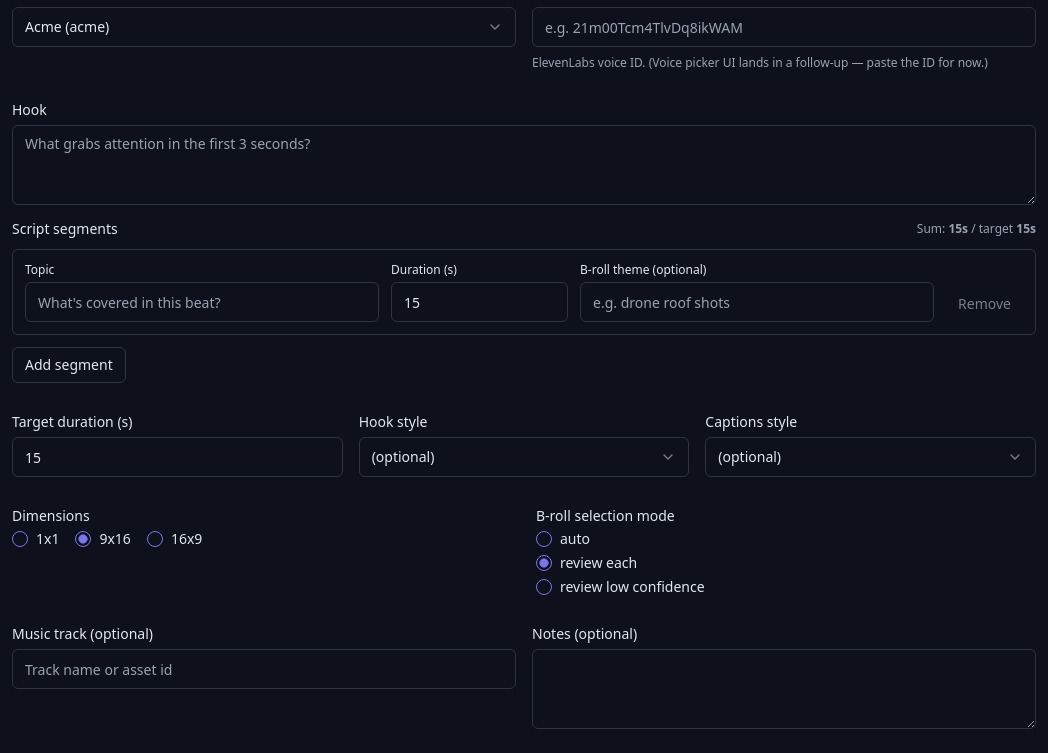
Test: VideoBriefForm › surfaces an API error message on failure
In the field labelled "Topic": point(202, 302) [25,282,379,322], type "intro"
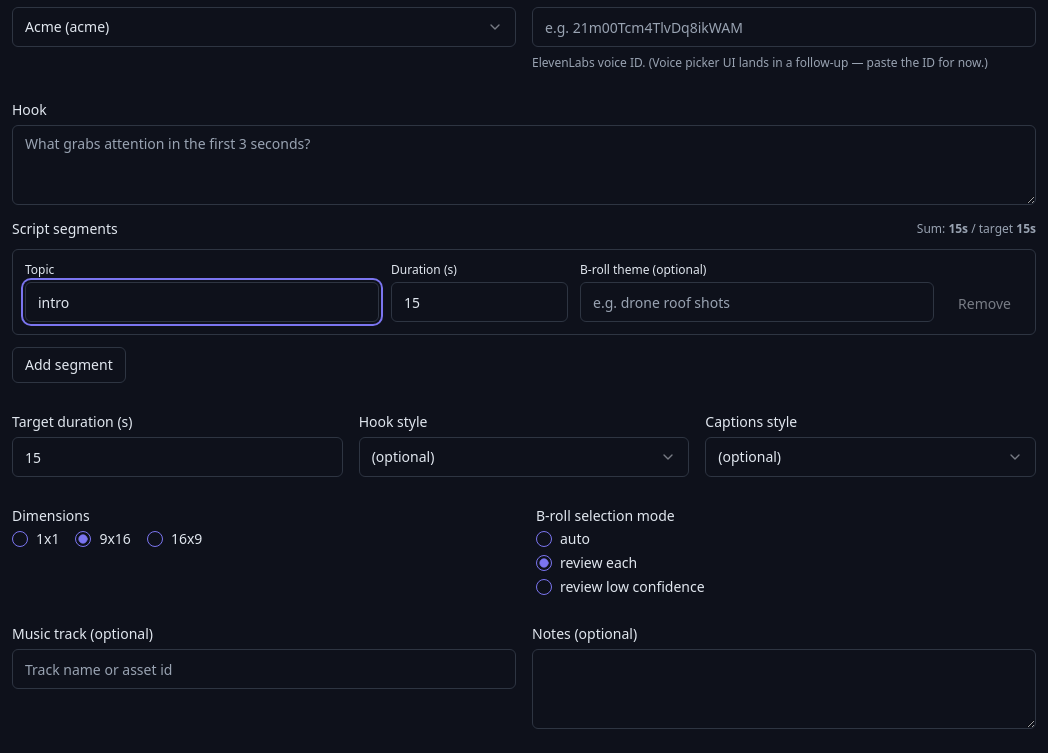
In the field labelled "Voice ID": point(784, 27) [532,7,1036,47], type "voice-abc"
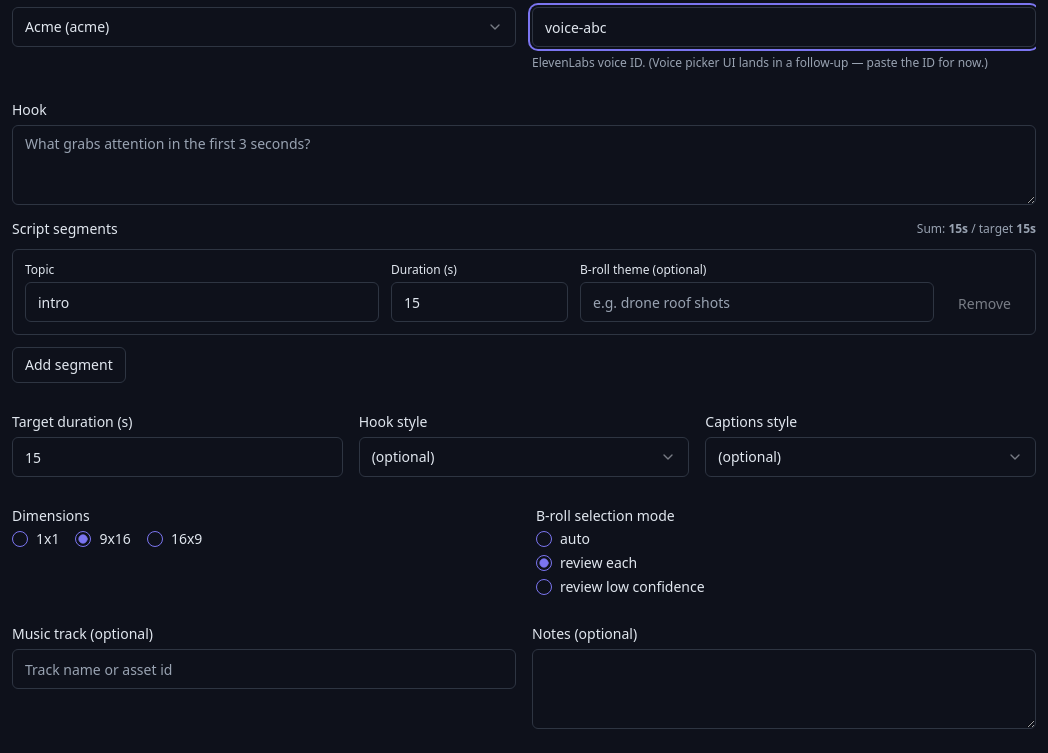
In the text box labelled "Hook": point(524, 165) [12,125,1036,205], type "Stop scrolling now"
(page scrolled)
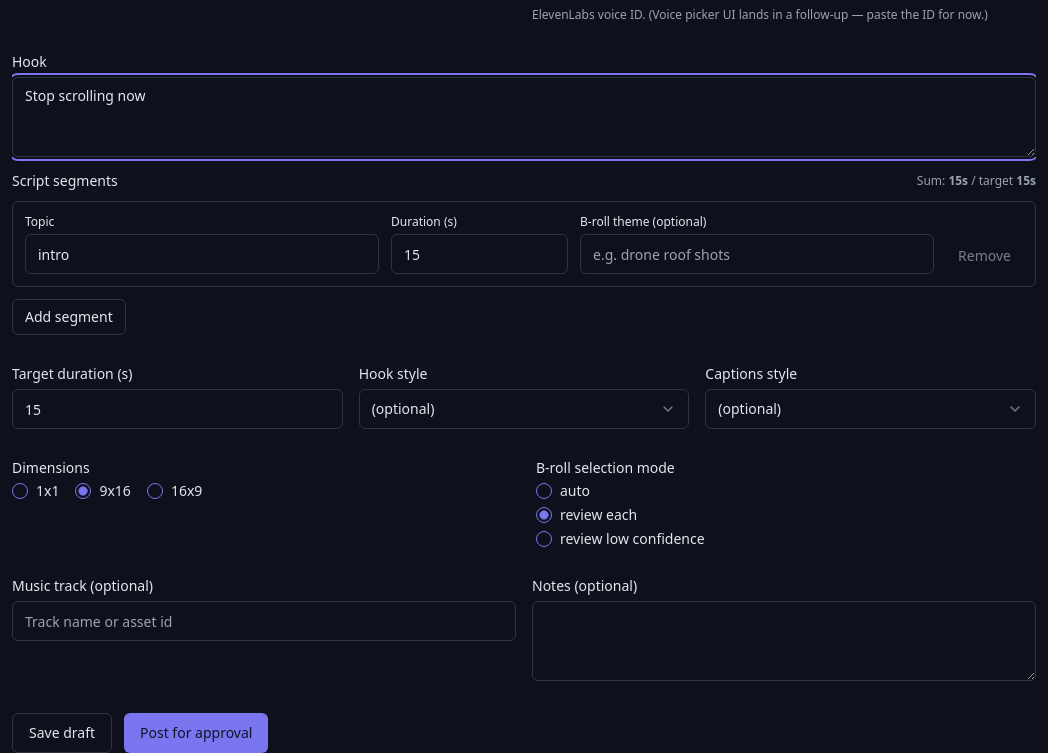
Click the button "Save draft": point(62, 733) [12,713,112,752]
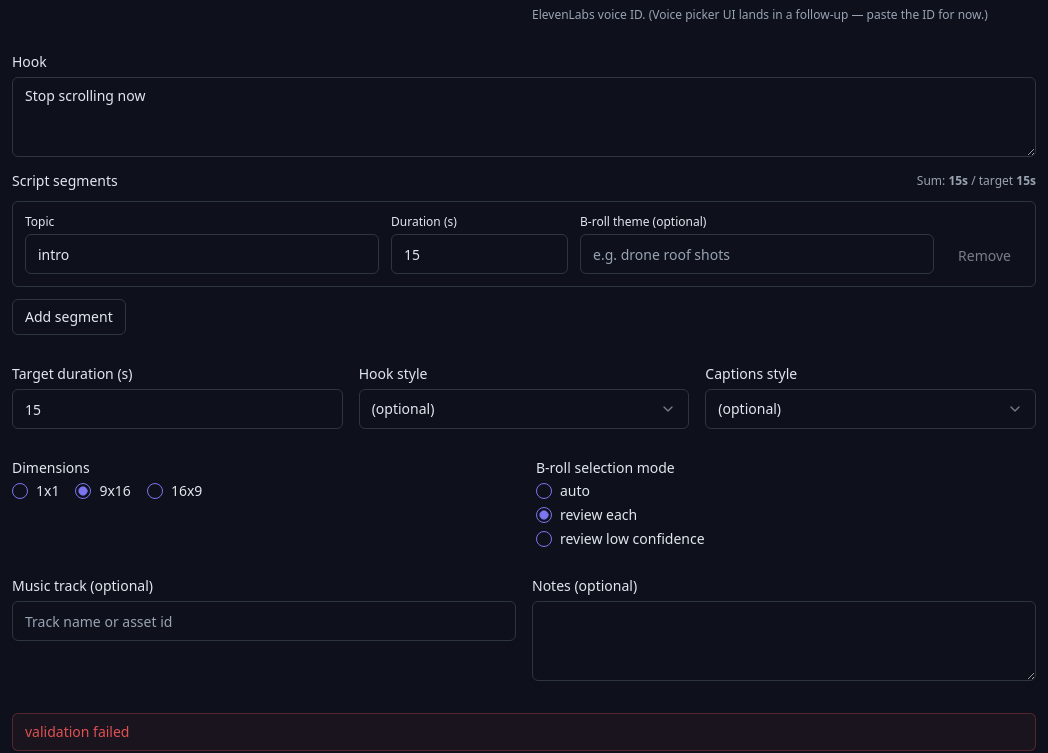
Now the text "validation failed" is shown, box [12,713,1036,751]
